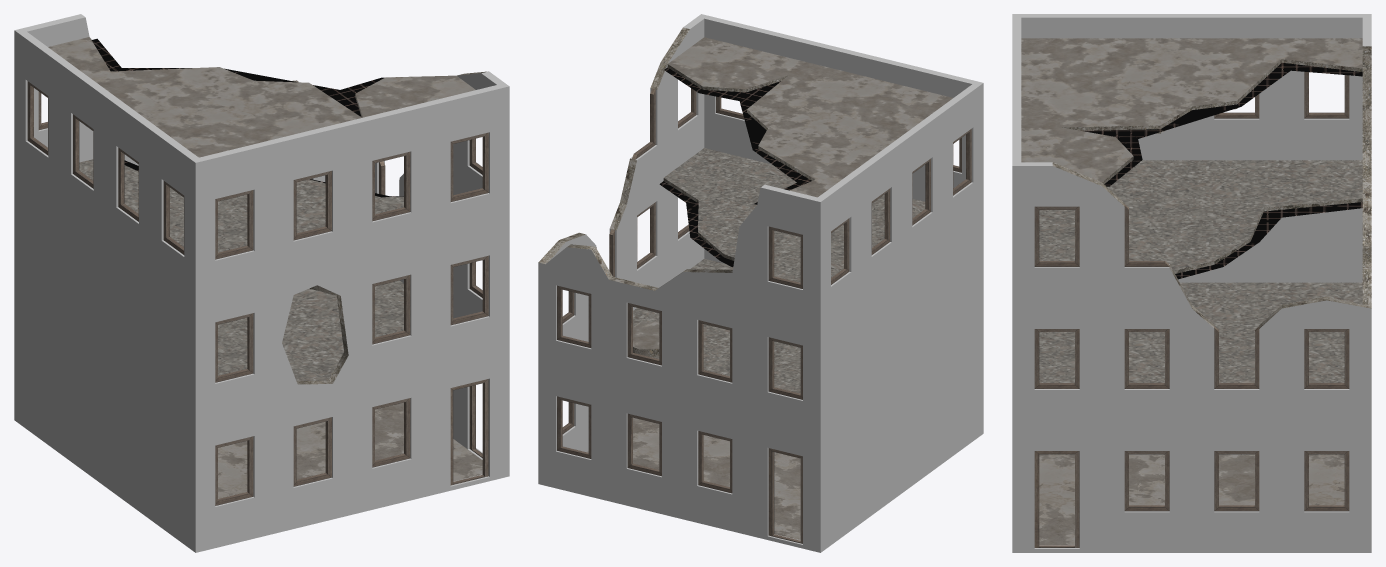
File: Building_C_Destroyed.fbx
3 renders of one model, left to right at view 1: azimuth 30°, elevation 25°; view 2: azimuth 150°, elevation 25°; view 3: azimuth 270°, elevation 25°, orthographic. The views are drawn at different scales.
Visible parts, largest first — view 1: Walls, Rooftop, Windows, Floors_Center, Floor_Ground, Rebar, Broken_Concrete; view 2: Walls, Rooftop, Floors_Center, Windows, Floor_Ground, Broken_Concrete, Rebar, Rubble; view 3: Walls, Floors_Center, Rooftop, Windows, Floor_Ground, Broken_Concrete, Rebar.
Boxes of the visible parts, x1,y1,x2,y2 form: Walls: (14, 14, 509, 552); Rooftop: (48, 37, 475, 157); Windows: (27, 81, 488, 505); Floors_Center: (79, 159, 403, 380); Floor_Ground: (218, 402, 482, 498); Rebar: (91, 38, 403, 197); Broken_Concrete: (292, 71, 486, 384); Walls: (538, 14, 983, 552); Rooftop: (668, 37, 952, 197); Floors_Center: (633, 148, 925, 393); Windows: (557, 88, 971, 543); Floor_Ground: (586, 417, 800, 540); Broken_Concrete: (538, 27, 814, 356); Rebar: (659, 67, 811, 267); Rubble: (633, 321, 659, 349); Walls: (1012, 14, 1371, 552); Floors_Center: (1039, 160, 1362, 382); Rooftop: (1021, 38, 1362, 182); Windows: (1034, 72, 1349, 547); Floor_Ground: (1039, 454, 1344, 544); Broken_Concrete: (1052, 46, 1371, 328); Rebar: (1081, 62, 1362, 279).
Bounding box in the file's own units: 800 × 950 × 800.
